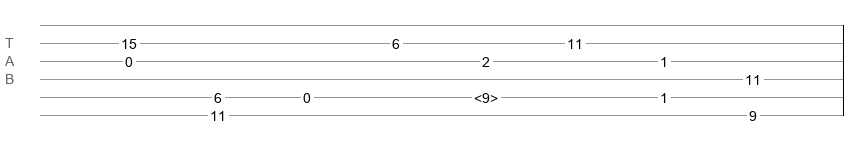0: (125, 54, 133, 64), (303, 90, 311, 100)
1: (660, 54, 668, 64), (660, 90, 668, 100)
11: (210, 108, 226, 118), (567, 36, 583, 46), (745, 72, 761, 82)
15: (121, 36, 137, 46)
2: (482, 54, 490, 64)
6: (214, 90, 222, 100), (392, 36, 400, 46)
9: (749, 108, 757, 118)
harmonic: (474, 90, 498, 100)
